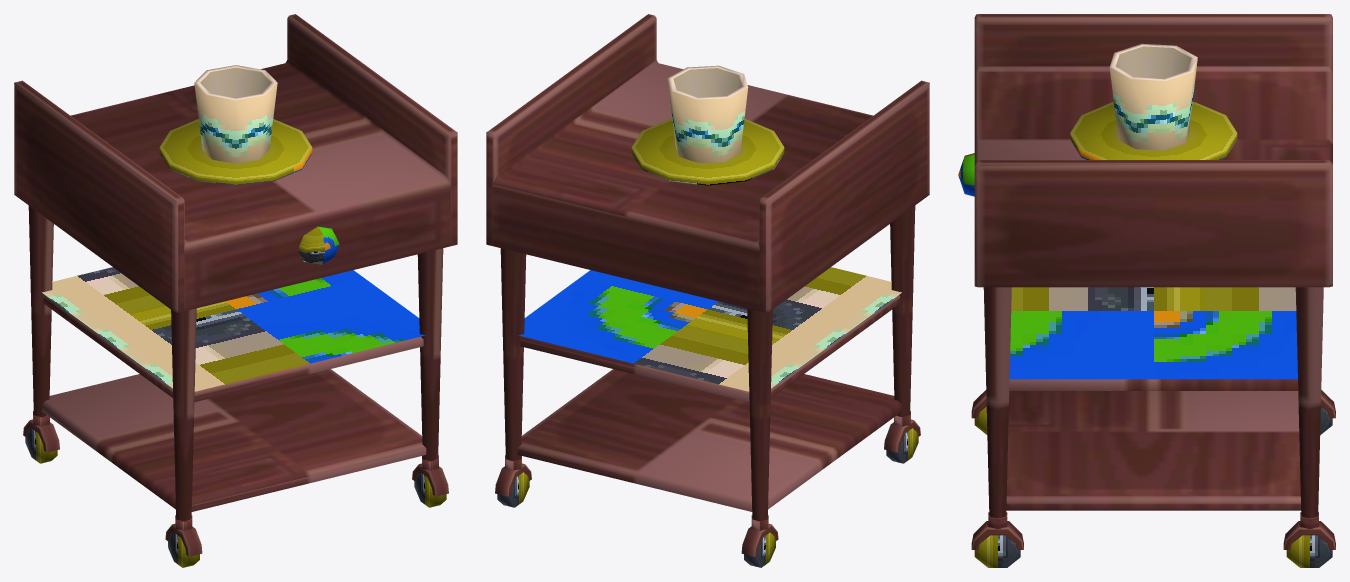
File: int_grf_wagon.dae
3 renders of one model, left to right at view 1: azimuth 30°, elevation 25°; view 2: azimuth 150°, elevation 25°; view 3: azimuth 270°, elevation 25°, orthographic. The views are drawn at different scales.
Visible parts, largest first — view 1: int_grf_wagon; view 2: int_grf_wagon; view 3: int_grf_wagon.
Part boxes in pixels (x1,y1,x2,y2): int_grf_wagon: (14, 14, 457, 567); int_grf_wagon: (486, 14, 929, 567); int_grf_wagon: (958, 14, 1335, 567).
Bounding box in the file's own units: 21.7 × 29.19 × 22.88.
2 materials, 2 textured.
